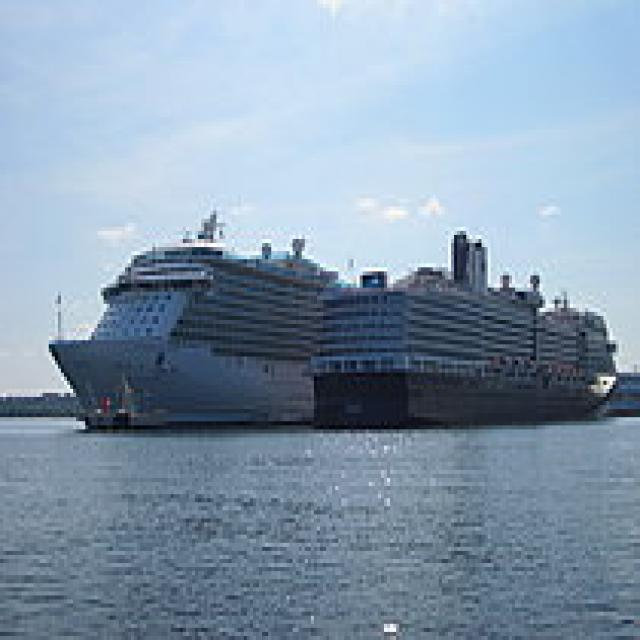Ship: (41, 204, 364, 435), (306, 224, 620, 439)
